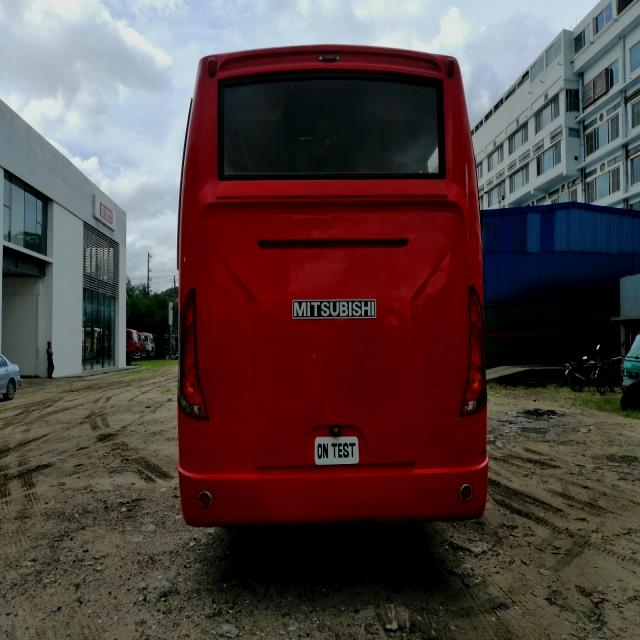bus: (135, 18, 520, 559)
